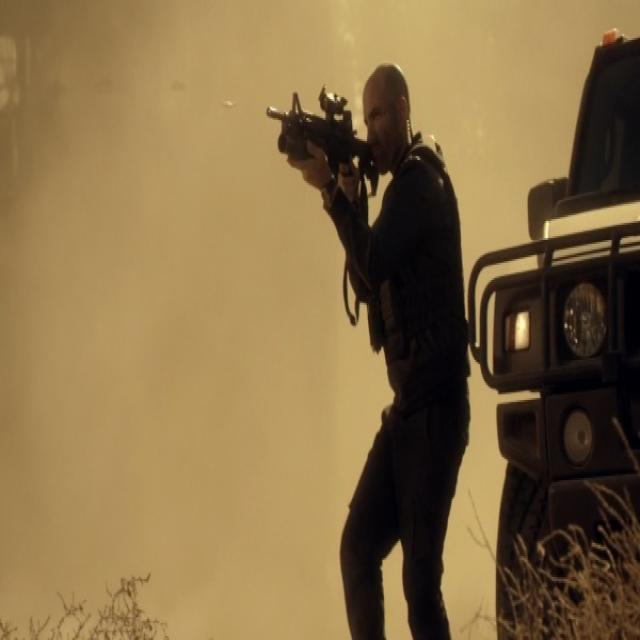rifle: (266, 77, 382, 197)
